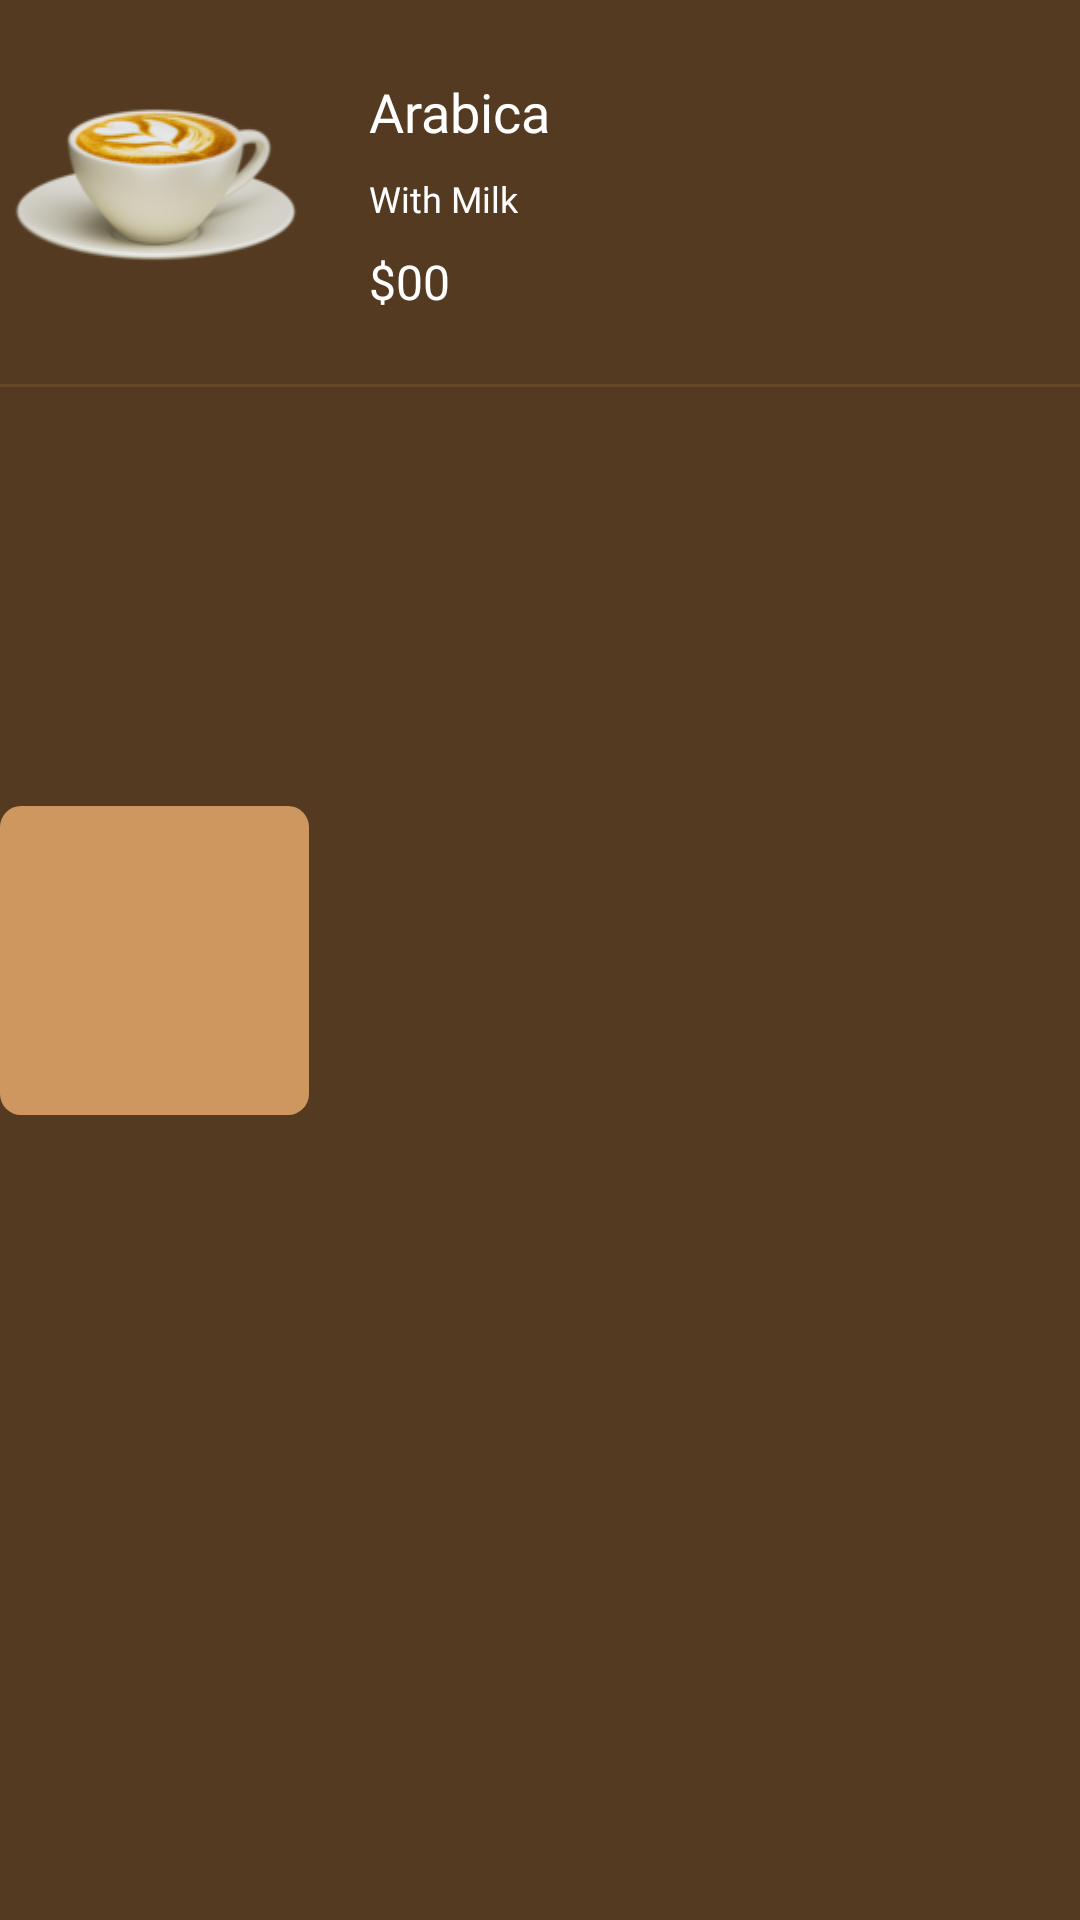

Icons on this 1080 × 1920 Android screen, each with its box as (x1,y1,x2,y2):
product: (16,109,296,260)
